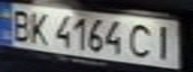1: (69, 15, 87, 51)
4: (103, 18, 130, 56), (51, 12, 72, 48)
6: (84, 16, 109, 53)
B: (3, 7, 33, 43)
C: (124, 20, 157, 60)
I: (148, 22, 181, 61)
K: (24, 8, 51, 46)
